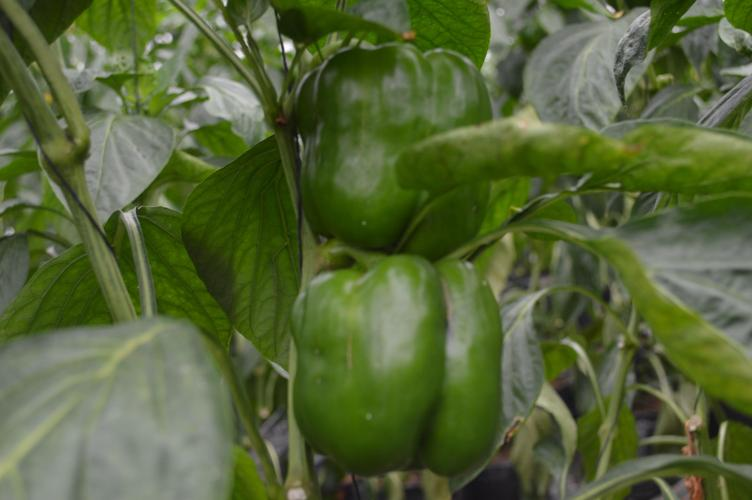BellPepper: (281, 40, 496, 255), (287, 274, 493, 468)
